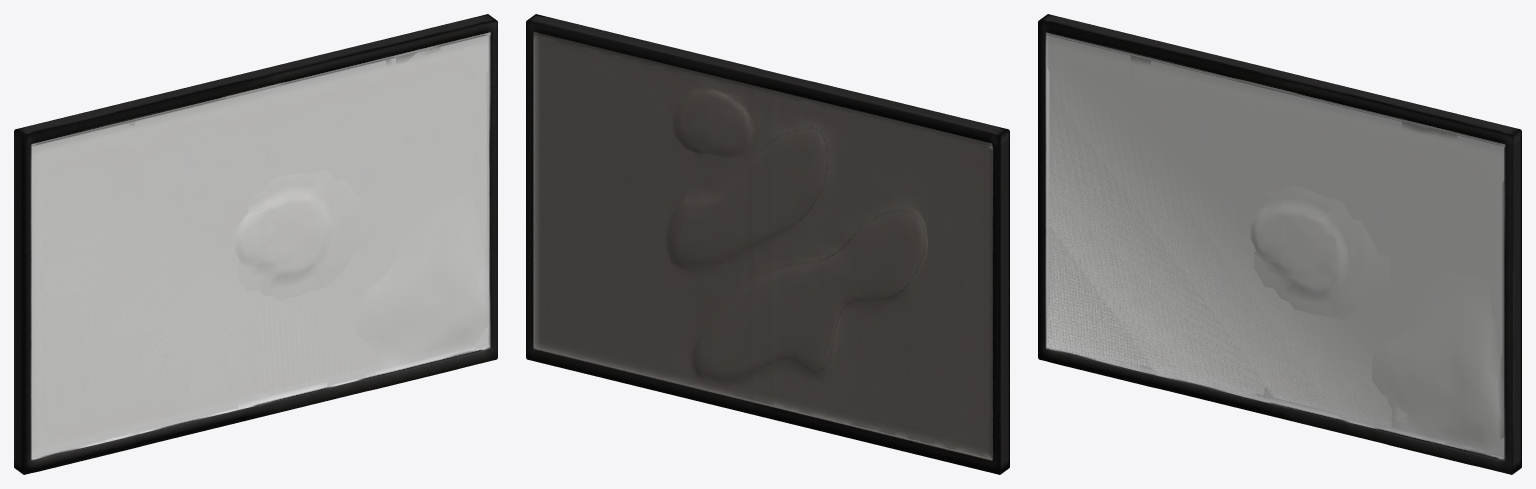
The model's file is sign_plaque.glb.
3 views of the same model, side by side, from view 1: azimuth 30°, elevation 25°; view 2: azimuth 150°, elevation 25°; view 3: azimuth 330°, elevation 25° (orthographic).
Parts seen in each view (by area): view 1: tripo_node_f2d9f54e-cae6-4ba8-b48f-163b78b562ad; view 2: tripo_node_f2d9f54e-cae6-4ba8-b48f-163b78b562ad; view 3: tripo_node_f2d9f54e-cae6-4ba8-b48f-163b78b562ad.
Part boxes in pixels (<box>): tripo_node_f2d9f54e-cae6-4ba8-b48f-163b78b562ad: <box>14,14,497,474</box>; tripo_node_f2d9f54e-cae6-4ba8-b48f-163b78b562ad: <box>526,14,1009,474</box>; tripo_node_f2d9f54e-cae6-4ba8-b48f-163b78b562ad: <box>1038,14,1521,474</box>.
Size of the model in its own units: 0.32 by 0.22 by 0.012.
1 material, 1 textured.
